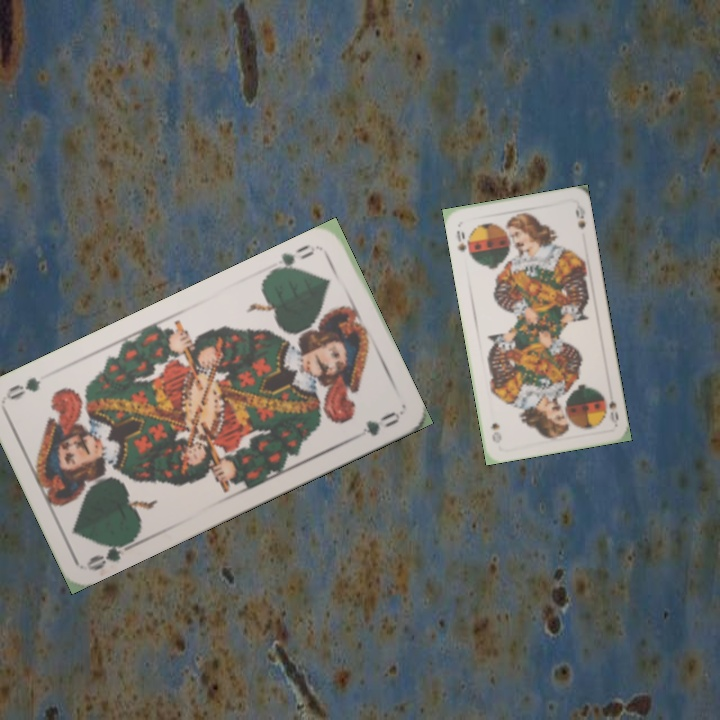GO: (84, 533, 141, 574), (267, 239, 323, 275)
SO: (452, 226, 473, 259), (605, 397, 621, 427)
